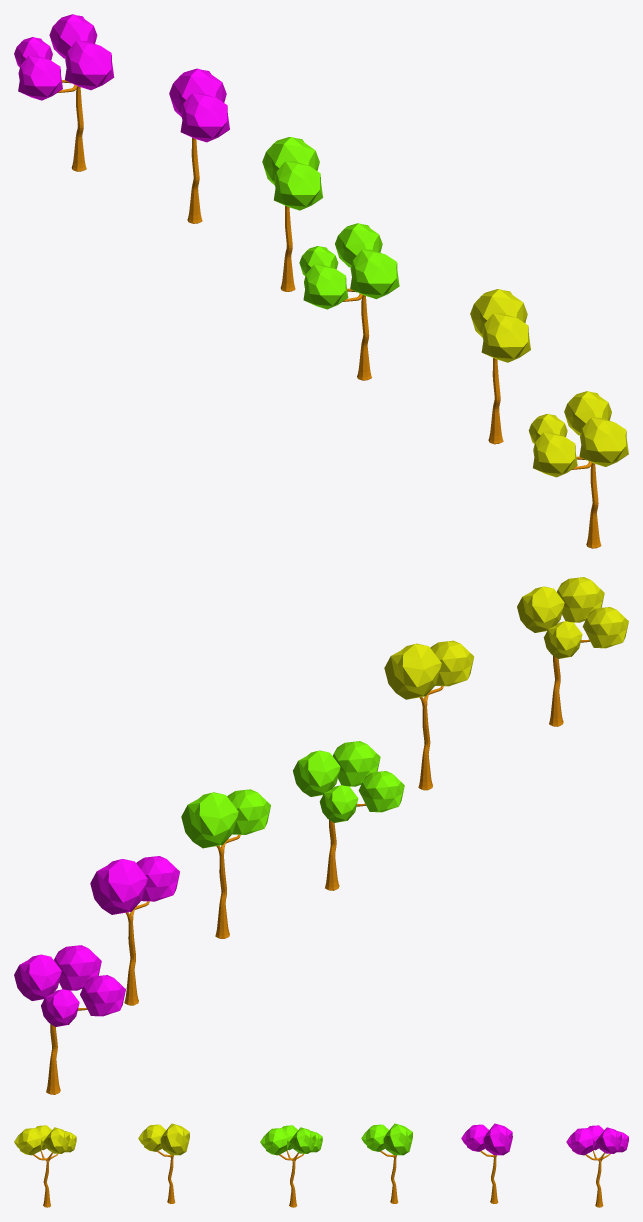
The model's file is Trees.fbx.
3 views of the same model, one above another, from view 1: azimuth 30°, elevation 25°; view 2: azimuth 150°, elevation 25°; view 3: azimuth 270°, elevation 25° (orthographic). The views are drawn at different scales.
Parts seen in each view (by area): view 1: Icosphere.001, Icosphere.016, Icosphere, Icosphere.024, Icosphere.006, Icosphere.012, Icosphere.004, Icosphere.018, Icosphere.014, Icosphere.025, Icosphere.007, Icosphere.002 (+6 smaller); view 2: Icosphere.025, Icosphere.002, Icosphere.007, Icosphere.021, Icosphere.013, Icosphere.003, Icosphere.012, Icosphere.016, Icosphere.001, Icosphere.004, Icosphere.014, Icosphere.018 (+9 smaller); view 3: Icosphere.007, Icosphere.002, Icosphere.025, Icosphere.016, Icosphere.001, Icosphere.012, Icosphere.006, Icosphere.024, Icosphere, Icosphere.013, Icosphere.021, Icosphere.003 (+12 smaller).
Boxes of the visible parts, x1,y1,x2,y2 form: Icosphere.001: (350, 249, 399, 299); Icosphere.016: (579, 417, 628, 466); Icosphere: (274, 161, 323, 210); Icosphere.024: (481, 313, 530, 362); Icosphere.006: (180, 93, 229, 142); Icosphere.012: (65, 41, 114, 90); Icosphere.004: (303, 264, 348, 309); Icosphere.018: (533, 432, 577, 477); Icosphere.014: (18, 55, 62, 100); Icosphere.025: (470, 289, 527, 337); Icosphere.007: (169, 68, 226, 117); Icosphere.002: (262, 137, 319, 185); Icosphere.025: (384, 643, 441, 699); Icosphere.002: (181, 792, 238, 848); Icosphere.007: (90, 859, 147, 914); Icosphere.021: (517, 586, 564, 632); Icosphere.013: (14, 954, 61, 1000); Icosphere.003: (293, 750, 340, 796); Icosphere.012: (54, 945, 101, 990); Icosphere.016: (557, 577, 604, 622); Icosphere.001: (332, 741, 380, 786); Icosphere.004: (358, 771, 404, 812); Icosphere.014: (80, 975, 125, 1016); Icosphere.018: (582, 607, 628, 648); Icosphere.007: (483, 1123, 512, 1155); Icosphere.002: (383, 1123, 412, 1155); Icosphere.025: (160, 1123, 189, 1155); Icosphere.016: (14, 1128, 42, 1155); Icosphere.001: (260, 1128, 288, 1155); Icosphere.012: (566, 1128, 594, 1155); Icosphere.006: (461, 1124, 488, 1151); Icosphere.024: (138, 1124, 165, 1151); Icosphere: (361, 1124, 388, 1151); Icosphere.013: (595, 1127, 621, 1153); Icosphere.021: (43, 1127, 69, 1153); Icosphere.003: (289, 1127, 315, 1153).
Size of the model in its own units: 915 by 1239 by 7853.
